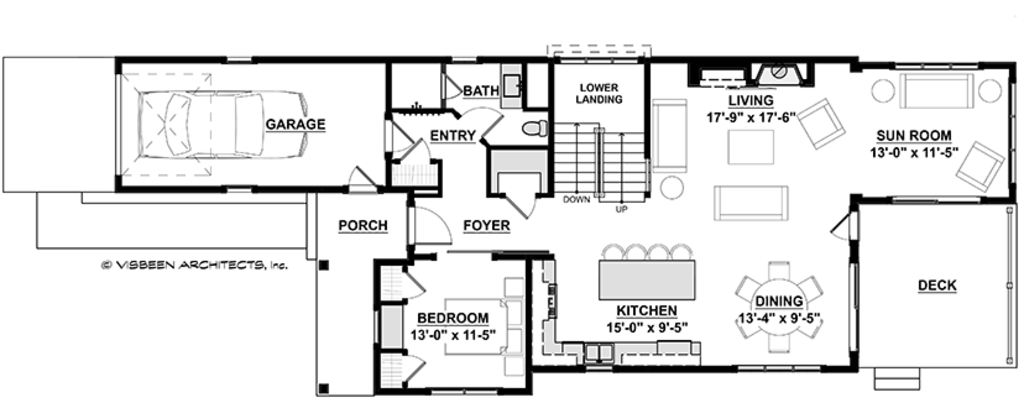bed: (439, 296, 528, 353)
dining_table: (724, 261, 824, 355)
door: (400, 203, 456, 242), (459, 102, 503, 141), (497, 190, 542, 223), (340, 159, 381, 195), (391, 139, 447, 161), (400, 268, 436, 301), (382, 119, 414, 152), (402, 350, 433, 380), (440, 74, 459, 103)
kitchen_bar: (580, 236, 700, 302)
large_sofa: (650, 97, 694, 176), (898, 69, 976, 112), (713, 183, 791, 224)
small_sofa: (792, 96, 848, 150), (955, 139, 1005, 195)
stairs: (547, 112, 649, 202)
twin_sink: (581, 340, 616, 371)
